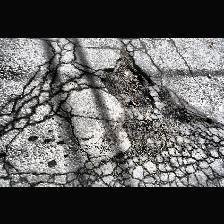pothole: (100, 44, 158, 110)
